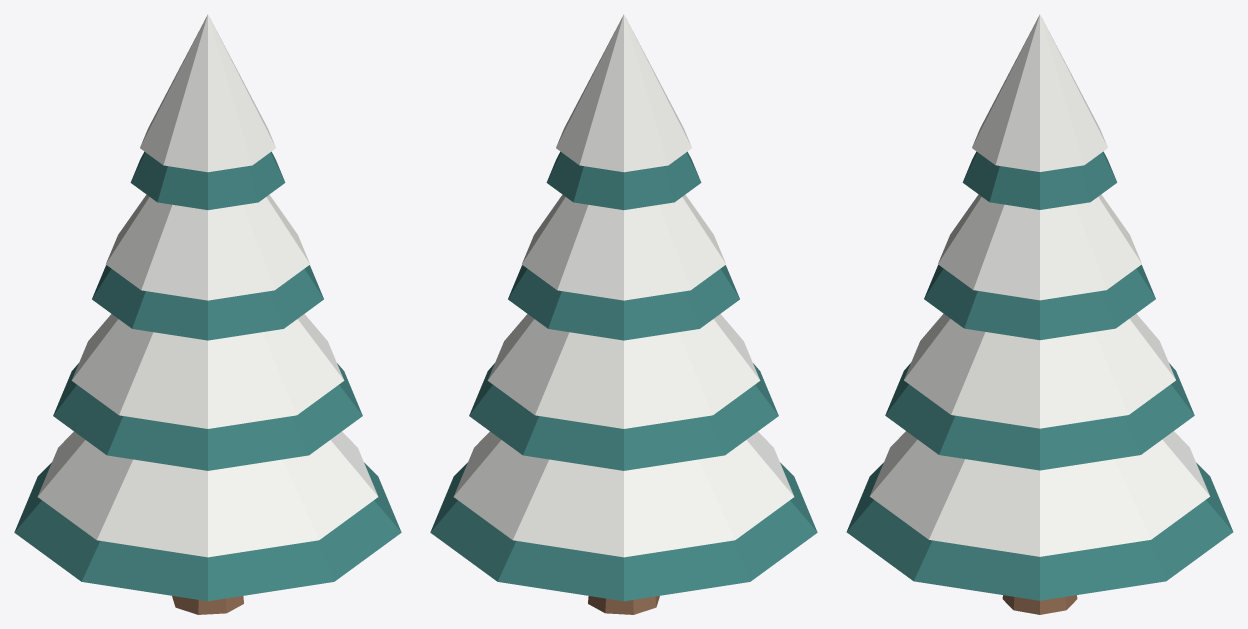
Rendered from fir_a.glb.
3 renders of one model, left to right at view 1: azimuth 30°, elevation 25°; view 2: azimuth 150°, elevation 25°; view 3: azimuth 270°, elevation 25°, orthographic.
Visible parts, largest first — view 1: snow-mantled-fir-snow, snow-mantled-fir-spruce, snow-mantled-fir-wood; view 2: snow-mantled-fir-snow, snow-mantled-fir-spruce, snow-mantled-fir-wood; view 3: snow-mantled-fir-snow, snow-mantled-fir-spruce, snow-mantled-fir-wood.
Part boxes in pixels (box(x1,y1,x2,y2)): snow-mantled-fir-snow: box(37, 14, 378, 557); snow-mantled-fir-spruce: box(14, 151, 401, 601); snow-mantled-fir-wood: box(172, 596, 243, 614); snow-mantled-fir-snow: box(453, 14, 794, 557); snow-mantled-fir-spruce: box(430, 151, 817, 601); snow-mantled-fir-wood: box(588, 596, 659, 614); snow-mantled-fir-snow: box(870, 14, 1209, 556); snow-mantled-fir-spruce: box(846, 151, 1233, 600); snow-mantled-fir-wood: box(1002, 595, 1077, 614).
Bounding box in the file's own units: 2.04 × 3.45 × 2.07.
